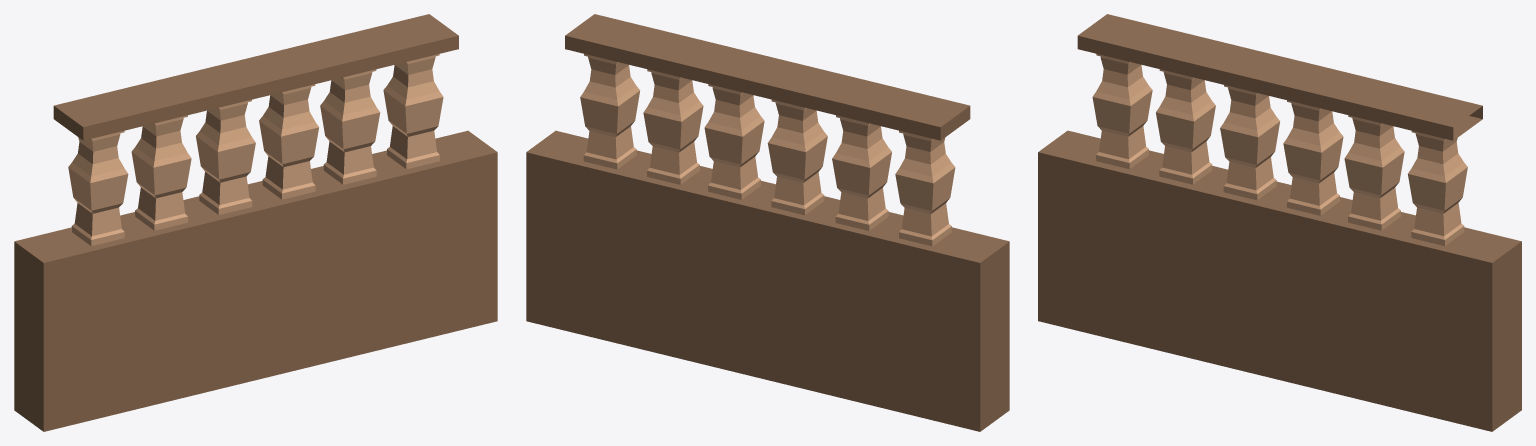
Rendered from level-03.FBX.
3 views of the same model, side by side, from view 1: azimuth 30°, elevation 25°; view 2: azimuth 150°, elevation 25°; view 3: azimuth 330°, elevation 25° (orthographic).
Parts seen in each view (by area): view 1: Object020; view 2: Object020; view 3: Object020.
Boxes of the visible parts, x1,y1,x2,y2 form: Object020: (14,14,497,431); Object020: (526,14,1009,431); Object020: (1038,14,1521,431).
Size of the model in its own units: 621 by 386 by 70.15.
